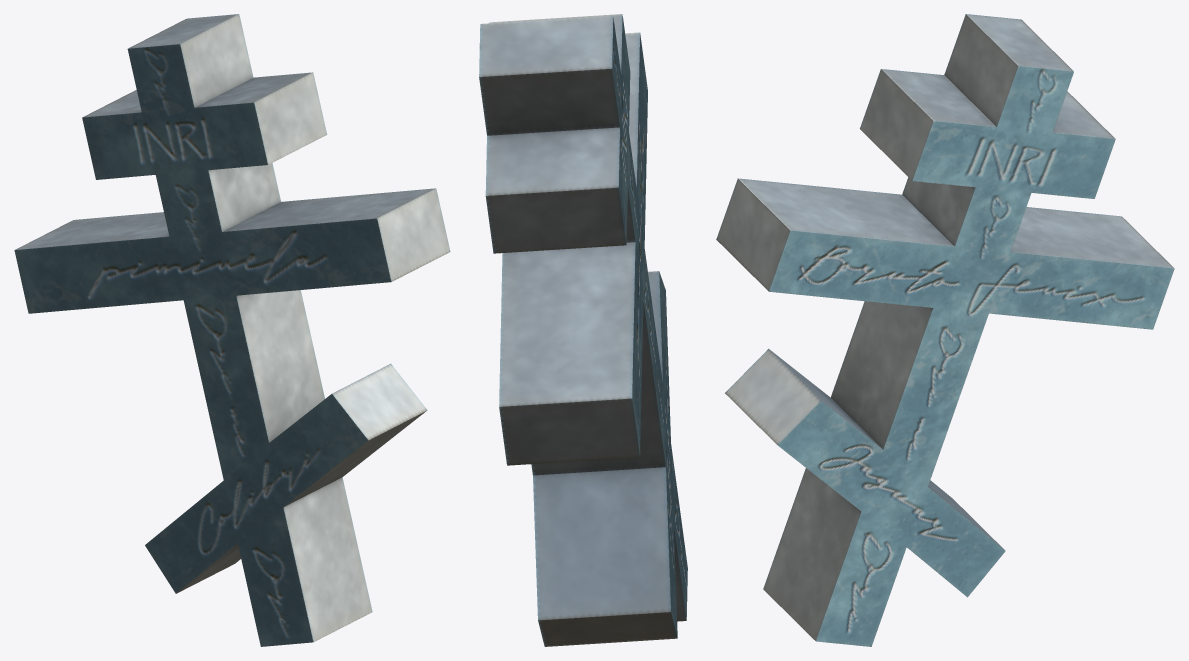
The picture shows the model from 3 angles, left to right: view 1: azimuth 30°, elevation 25°; view 2: azimuth 150°, elevation 25°; view 3: azimuth 270°, elevation 25°; orthographic projection. The views are drawn at different scales.
Visible parts, largest first — view 1: Cruz_Orto_Cube.011; view 2: Cruz_Orto_Cube.011; view 3: Cruz_Orto_Cube.011.
Boxes of the visible parts, x1,y1,x2,y2 form: Cruz_Orto_Cube.011: (14,14,450,646); Cruz_Orto_Cube.011: (479,14,687,646); Cruz_Orto_Cube.011: (716,14,1174,646).
Bounding box in the file's own units: 1.34 × 2.69 × 1.91.
